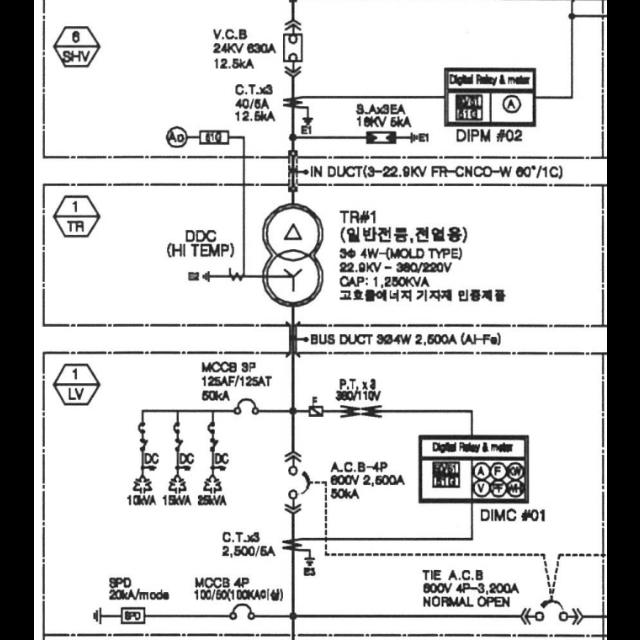CB: (283, 34, 301, 62)
CT: (282, 93, 302, 111), (282, 536, 302, 554), (227, 269, 246, 281)
GND: (90, 606, 102, 626), (302, 557, 316, 567), (408, 131, 418, 143), (201, 270, 211, 282), (300, 117, 314, 125)
LA: (366, 132, 394, 144)
MCCB: (232, 398, 258, 416), (228, 604, 255, 620)
PT: (339, 404, 381, 418)
SC: (202, 474, 222, 494), (131, 475, 151, 493), (168, 474, 186, 494)
